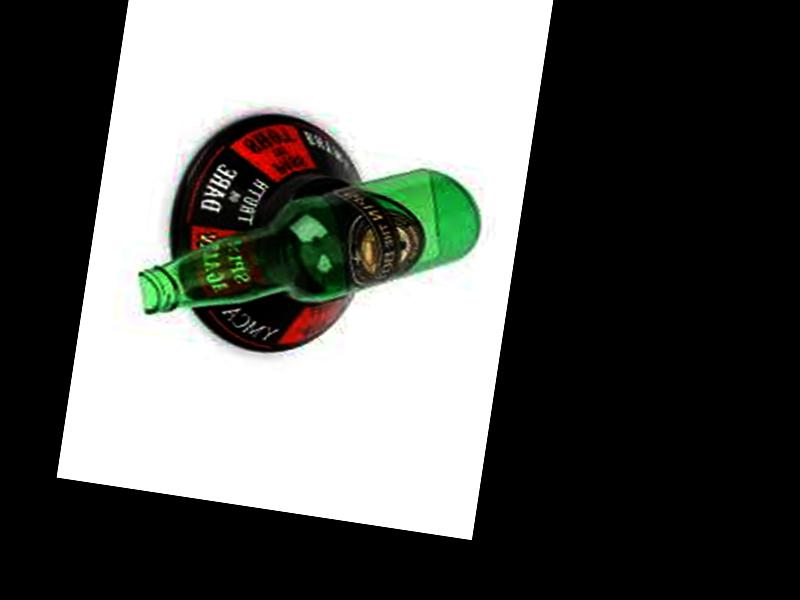Beer: (133, 127, 487, 358)
